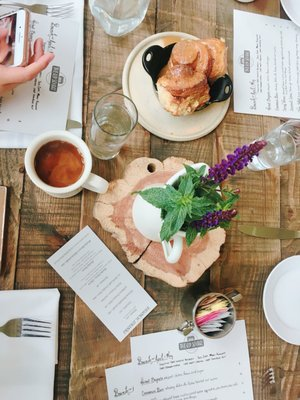pizza: (86, 93, 138, 160)
sushi: (24, 130, 93, 198), (88, 0, 151, 37)
